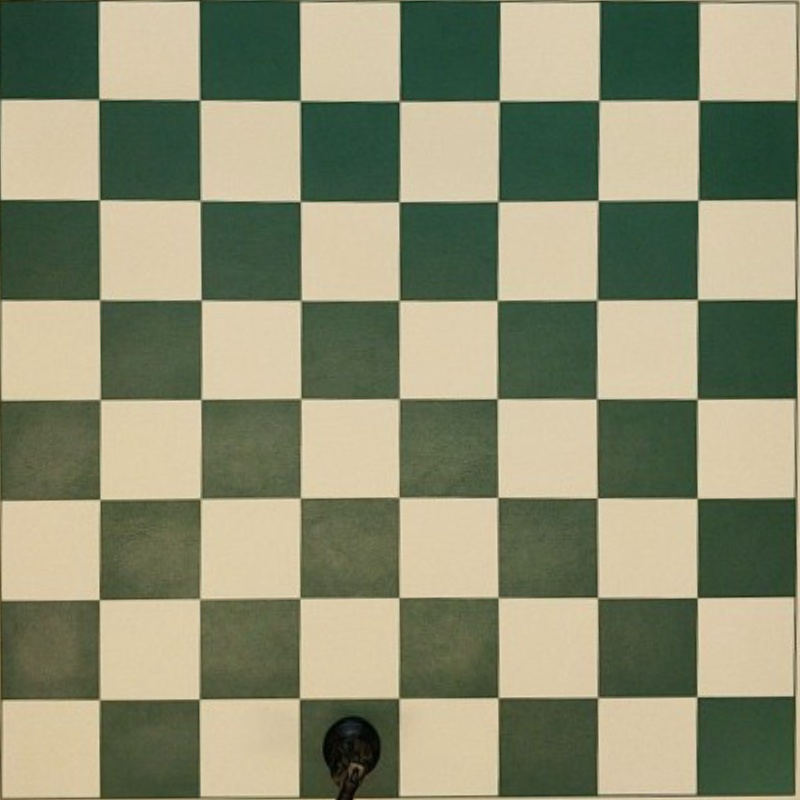black-knight: (323, 714, 381, 797)
